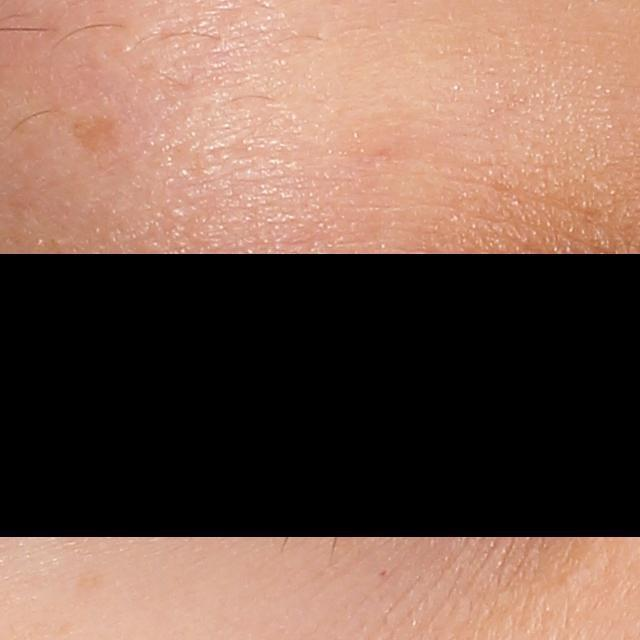melasma: (66, 114, 133, 159)
